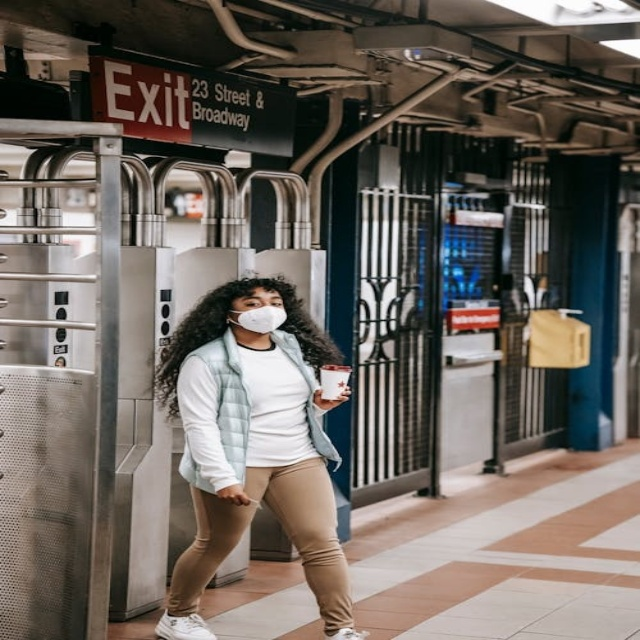Mascara: (228, 305, 288, 334)
Sin_gafas: (241, 296, 287, 307)
Sin_guantes: (212, 481, 252, 508), (311, 384, 353, 408)
